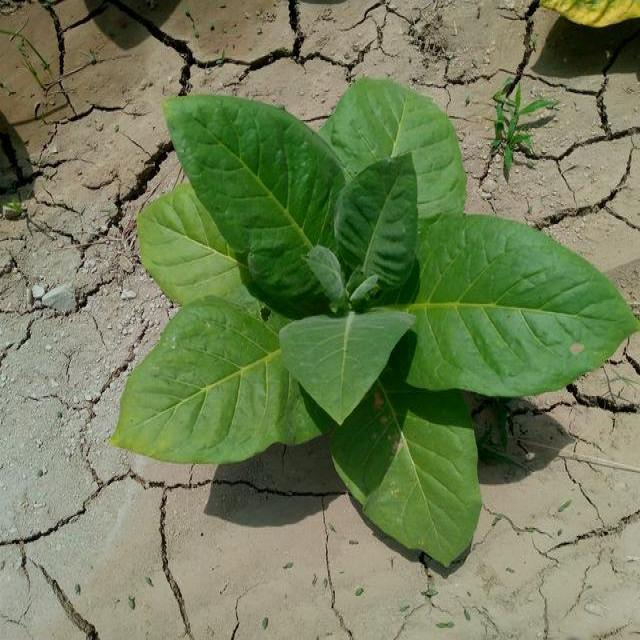crop: (116, 60, 640, 572)
